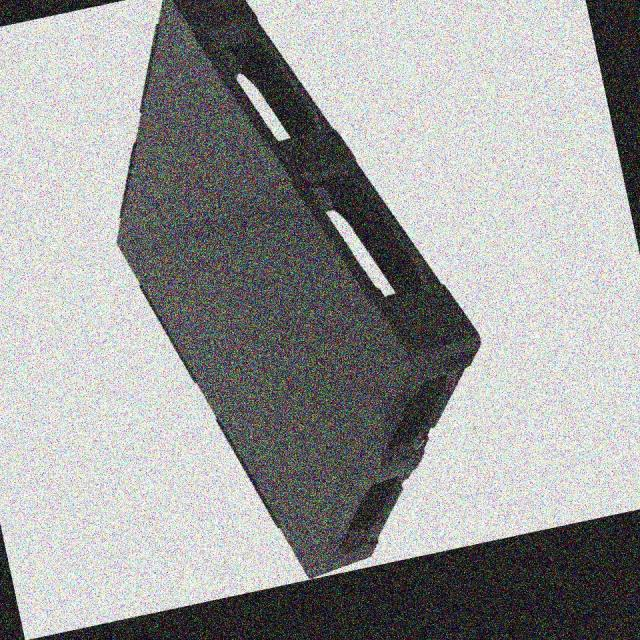non-igps: (100, 0, 488, 593)
